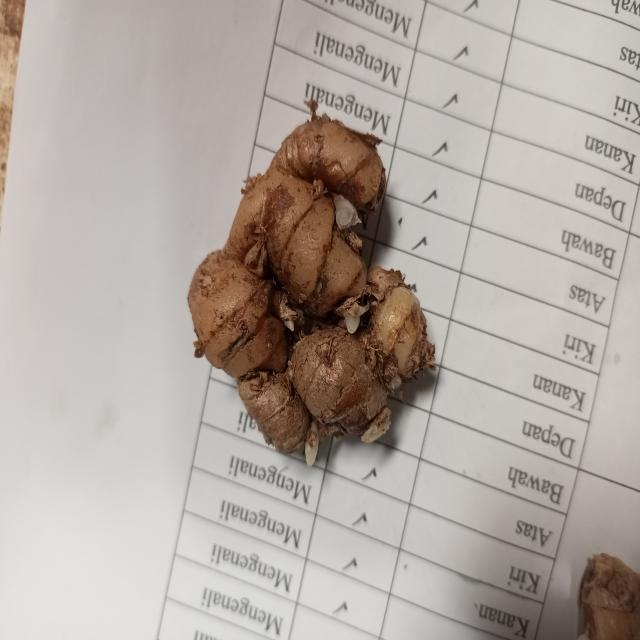ginger: (198, 120, 431, 428)
